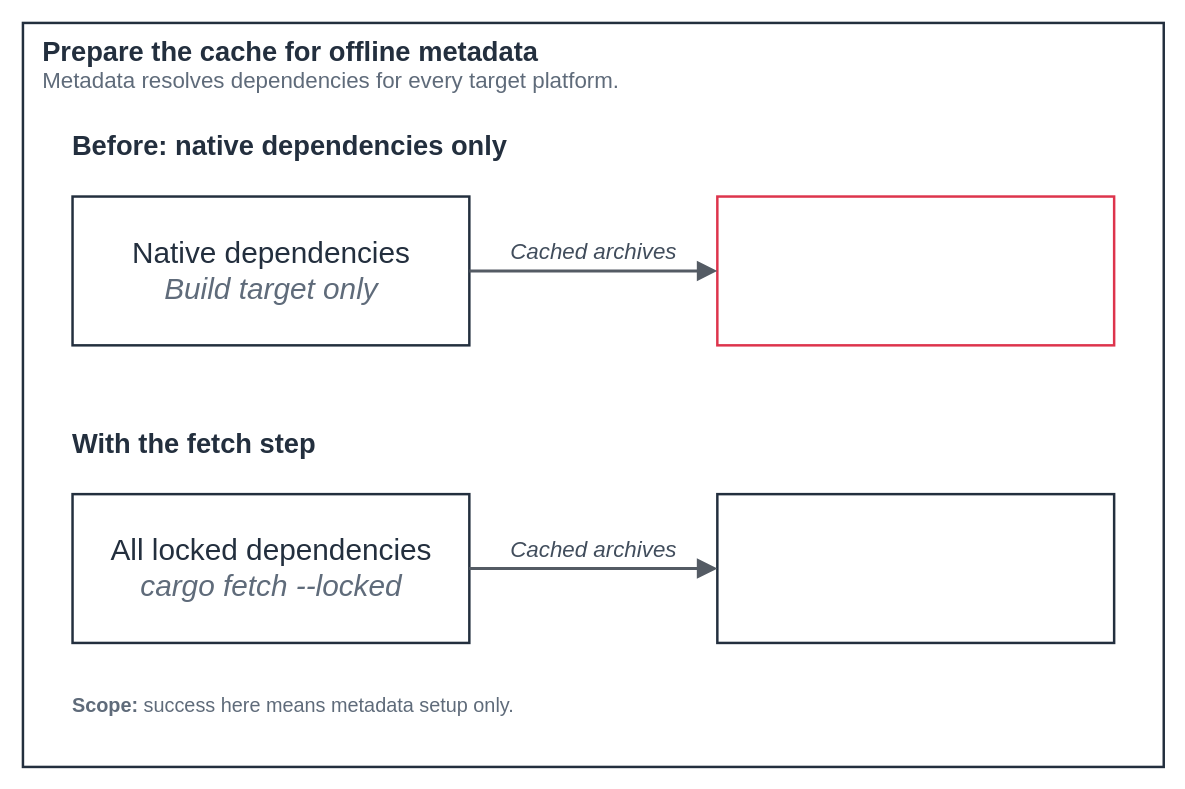
Image size: 1185x789. Some labels were removed from this diagram. The shapes that lost their labels are listed below. From the top down, each one's centre as x and y in pixels, then its label:
(915,270): Offline metadata Archive missing Request fails
(915,568): Same offline metadata Archive available Request succeeds
